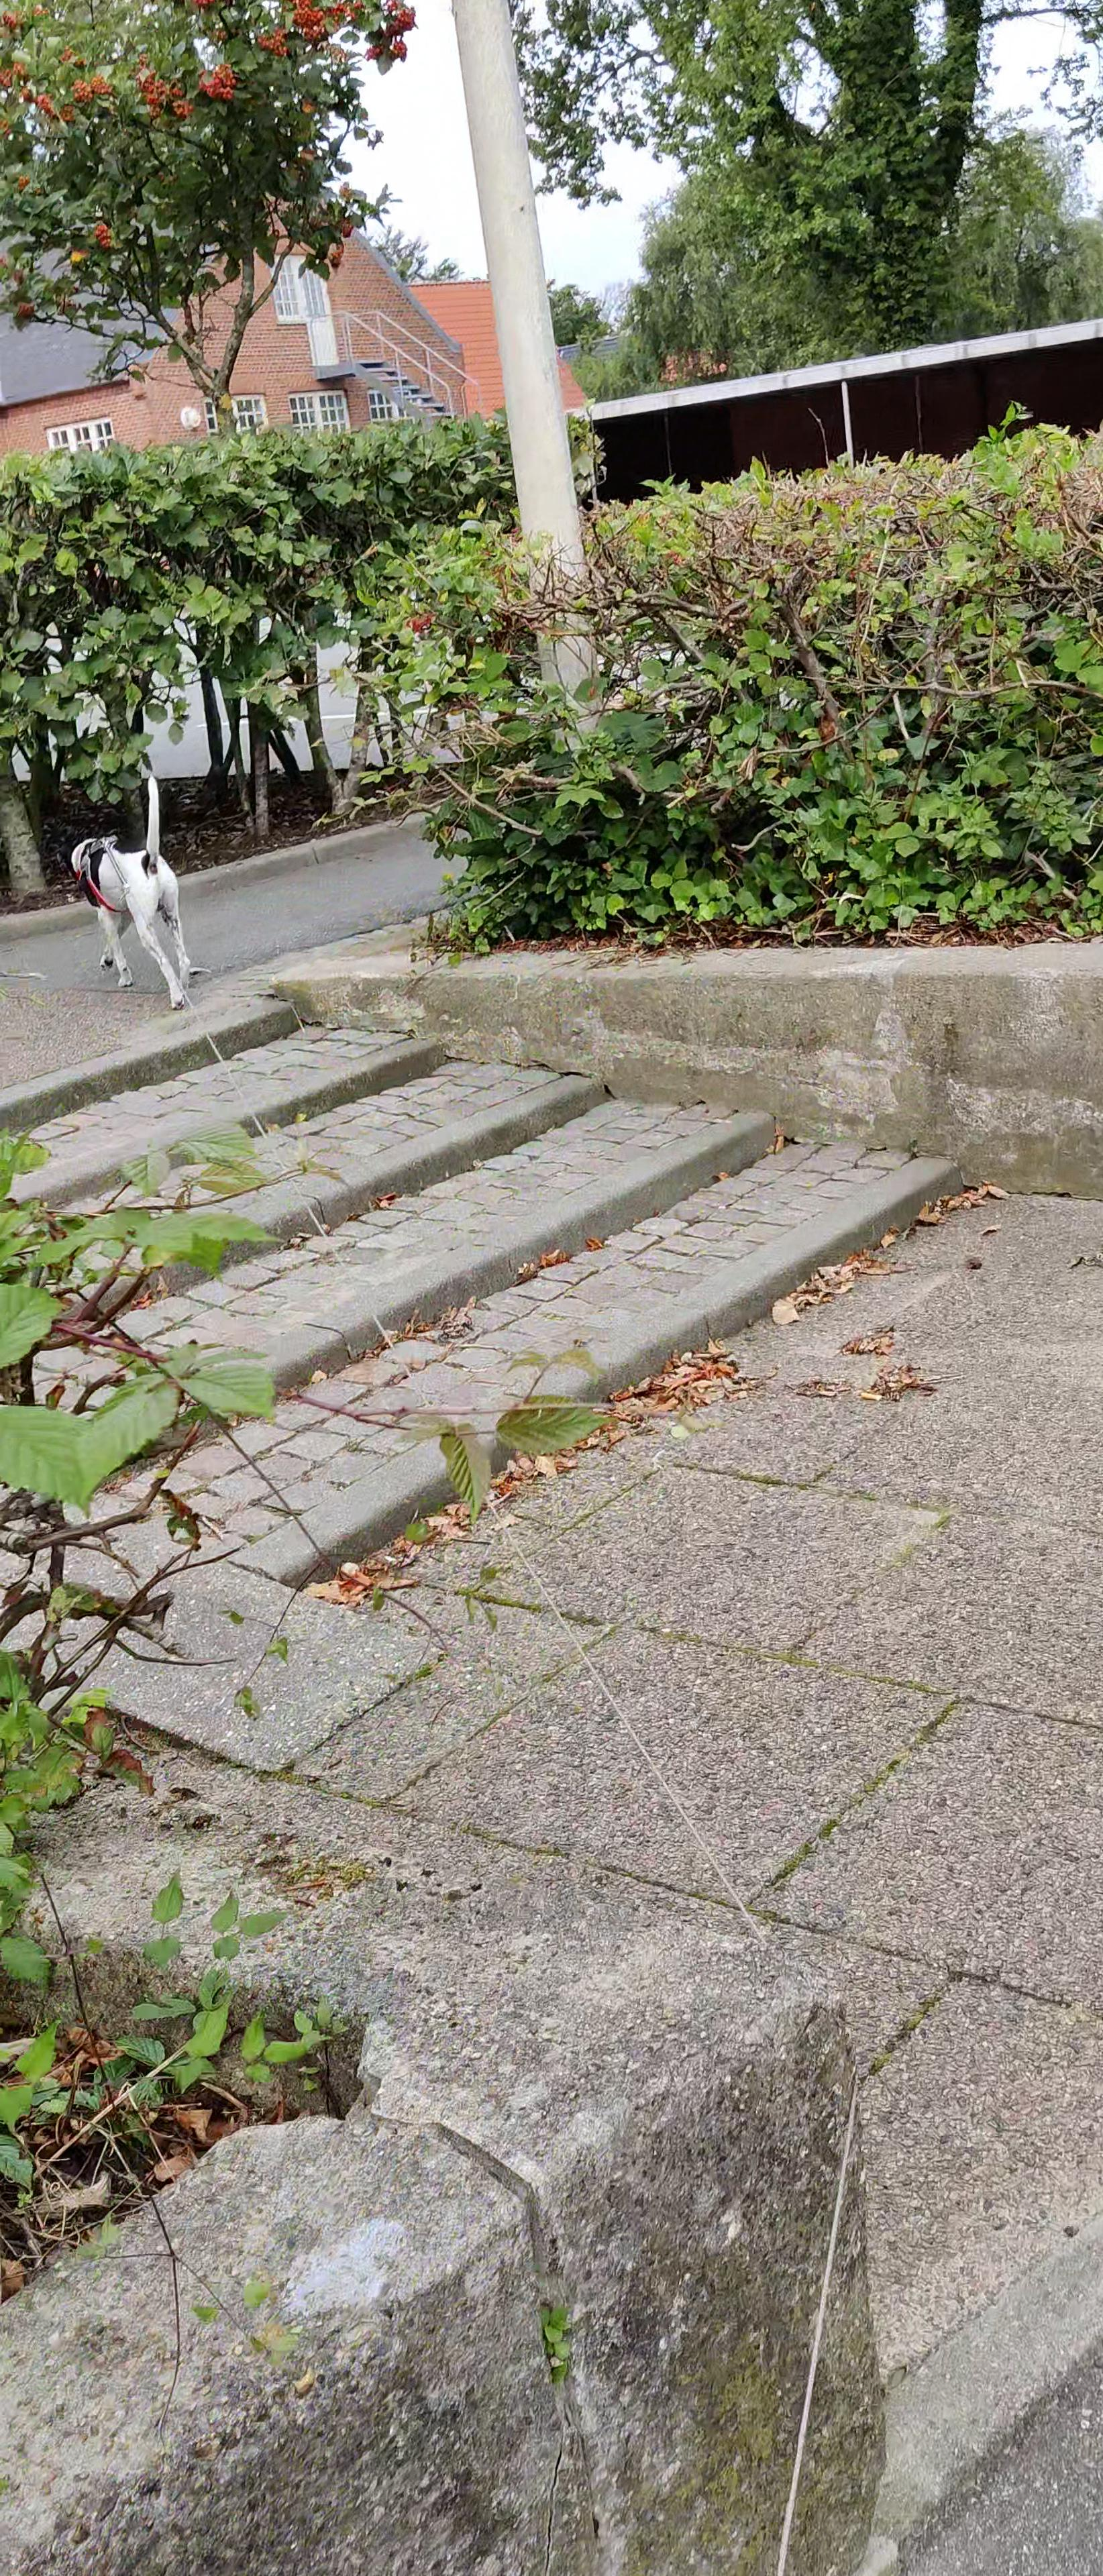Dog: (54, 775, 207, 1012)
